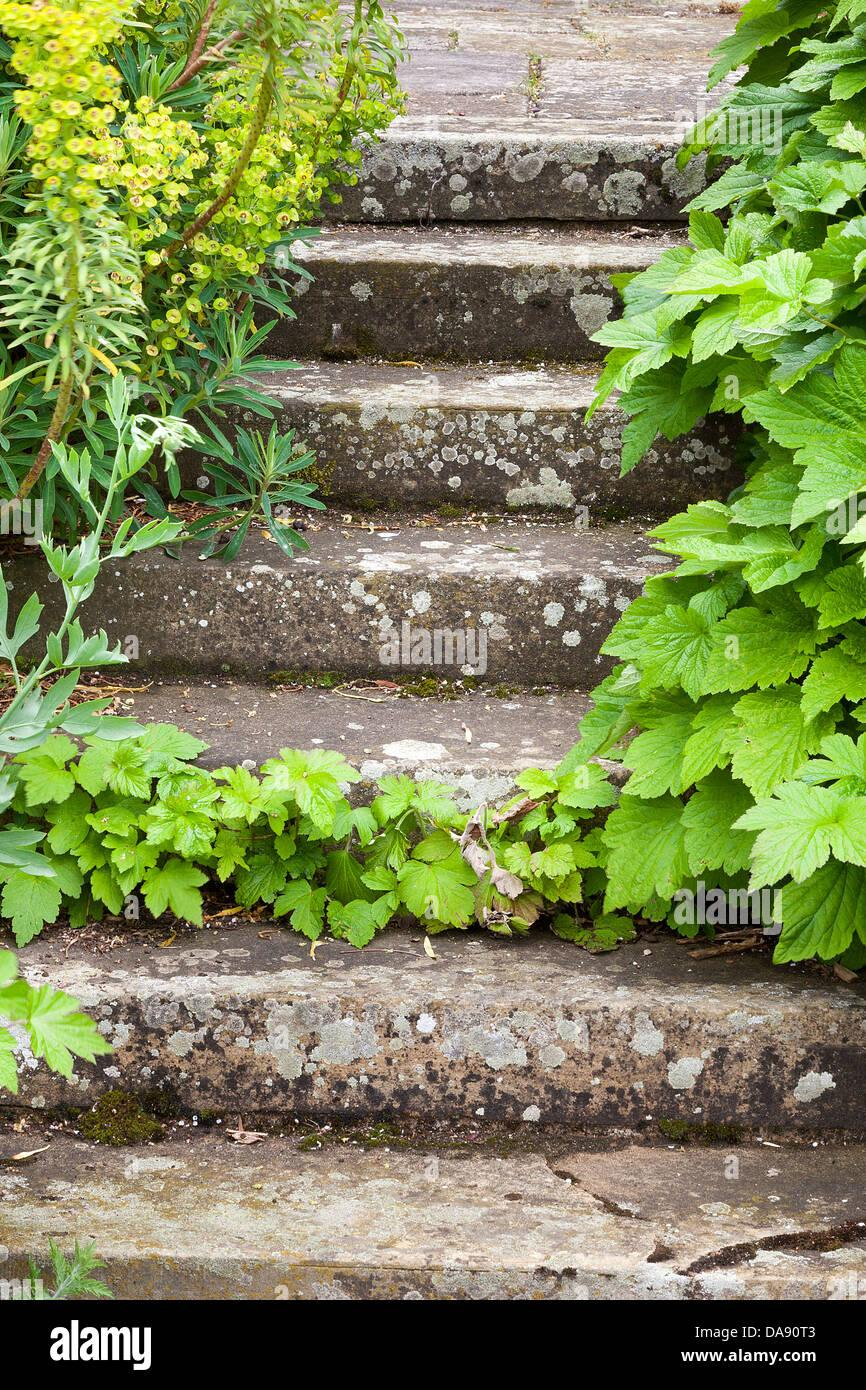overgrown grass: (0, 729, 548, 944)
